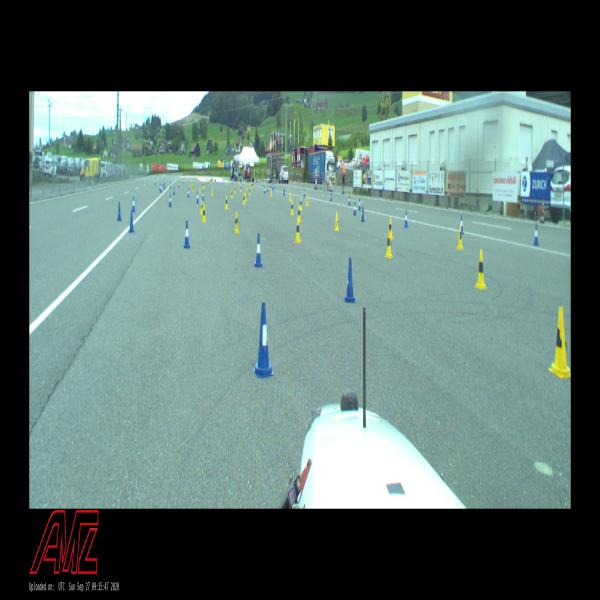blue_cone: (254, 302, 274, 378), (344, 257, 356, 303), (254, 233, 264, 267), (183, 220, 190, 248), (128, 210, 135, 233), (533, 223, 539, 247), (117, 202, 122, 221), (460, 213, 464, 235), (131, 196, 136, 212), (404, 209, 408, 228), (361, 205, 365, 222), (353, 201, 357, 216), (169, 193, 172, 207), (358, 198, 361, 210), (348, 195, 351, 206), (196, 191, 199, 202), (202, 190, 205, 201), (187, 188, 190, 198), (330, 192, 332, 202), (173, 186, 175, 196), (160, 185, 162, 193), (159, 183, 161, 191), (164, 182, 166, 190), (163, 178, 165, 186), (170, 182, 172, 189), (266, 186, 268, 193), (284, 188, 286, 195), (270, 181, 272, 188), (183, 178, 185, 184), (272, 184, 274, 190), (304, 188, 305, 198), (264, 186, 265, 194), (179, 180, 180, 188), (274, 184, 276, 188), (155, 179, 156, 185)
yellow_cone: (548, 306, 571, 378), (475, 249, 487, 289), (384, 230, 393, 258), (456, 224, 464, 250), (294, 218, 302, 242), (233, 210, 240, 234), (387, 217, 394, 240), (334, 211, 340, 231), (297, 205, 301, 223), (202, 204, 206, 222), (290, 200, 294, 215), (242, 192, 246, 205), (225, 195, 228, 210), (200, 199, 203, 214), (300, 197, 303, 211), (270, 188, 273, 199), (211, 186, 214, 196), (306, 194, 308, 206), (245, 190, 247, 202), (231, 188, 233, 199), (289, 191, 291, 202), (249, 187, 251, 196), (234, 185, 236, 194), (199, 186, 201, 194), (252, 180, 254, 188), (193, 183, 195, 190), (246, 183, 248, 190), (190, 181, 192, 187), (191, 179, 193, 185), (249, 180, 251, 186), (240, 184, 241, 192), (180, 178, 181, 186), (204, 180, 205, 188), (193, 186, 194, 193), (203, 182, 204, 188), (251, 183, 252, 189), (226, 180, 227, 185)
